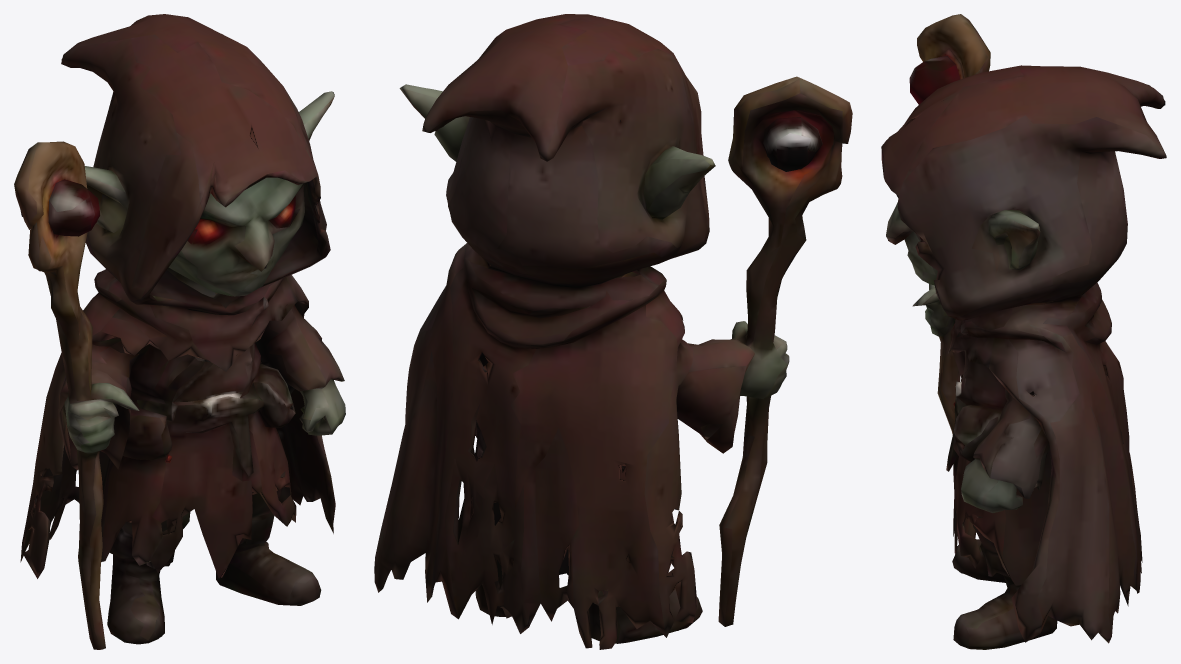
File: model-creep-ranged.glb
3 views of the same model, side by side, from view 1: azimuth 30°, elevation 25°; view 2: azimuth 150°, elevation 25°; view 3: azimuth 270°, elevation 25° (orthographic). The views are drawn at different scales.
Parts seen in each view (by area): view 1: geometry_0; view 2: geometry_0; view 3: geometry_0.
Part boxes in pixels (bbox=[...]): geometry_0: bbox=[14, 14, 345, 649]; geometry_0: bbox=[374, 14, 852, 649]; geometry_0: bbox=[881, 14, 1166, 649].
Size of the model in its own units: 0.6913 by 1 by 0.4851.
1 material, 1 textured.
